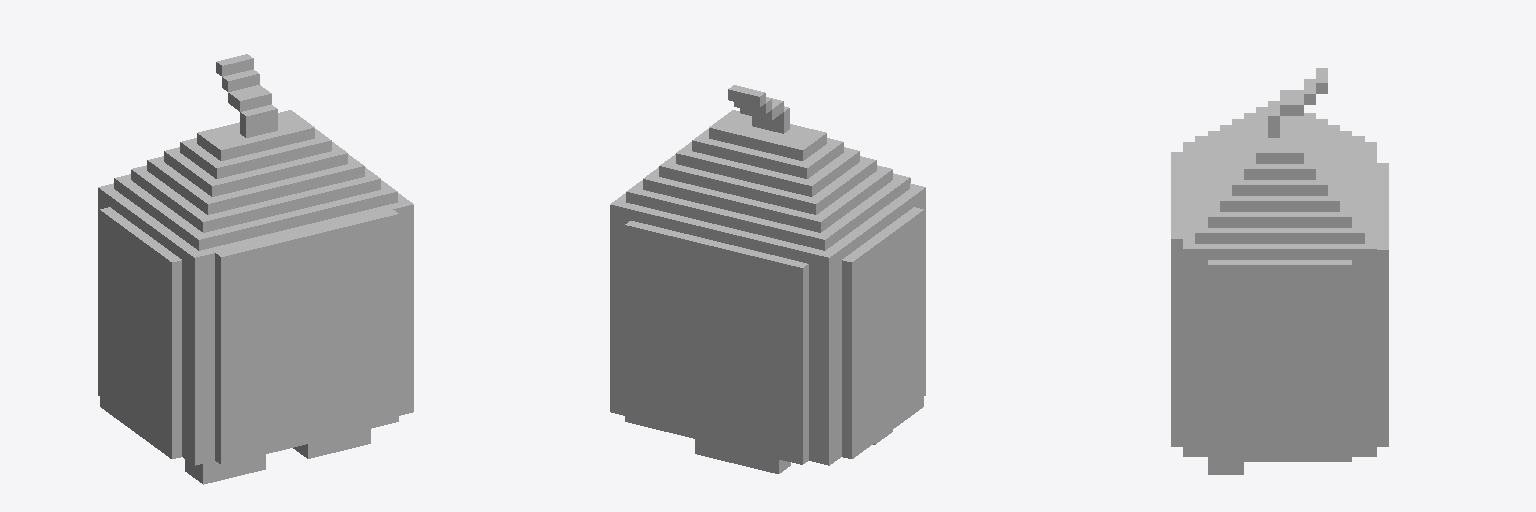
The model's file is alien.obj.
The picture shows the model from 3 angles: view 1: azimuth 30°, elevation 25°; view 2: azimuth 150°, elevation 25°; view 3: azimuth 270°, elevation 25°; orthographic projection.
Size of the model in its own units: 23 by 33 by 18.